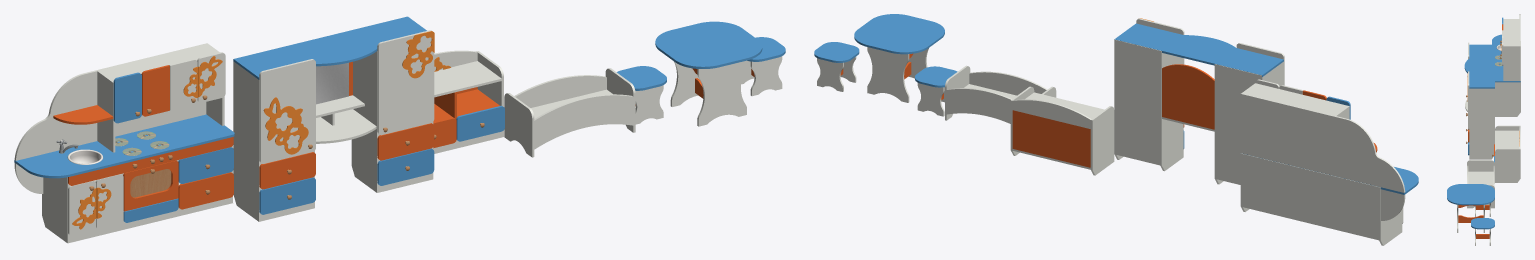
File: nabor_igrovoj_mebeli_vilena.glb
3 views of the same model, side by side, from view 1: azimuth 30°, elevation 25°; view 2: azimuth 150°, elevation 25°; view 3: azimuth 270°, elevation 25° (orthographic). The views are drawn at different scales.
Parts seen in each view (by area): view 1: Модель; view 2: Модель; view 3: Модель.
Boxes of the visible parts, box(x1,y1,x2,y2) form: Модель: box(14, 16, 785, 243); Модель: box(814, 14, 1418, 245); Модель: box(1447, 14, 1520, 245).
Size of the model in its own units: 5277 by 1041 by 927.
15 materials, 14 textured.
